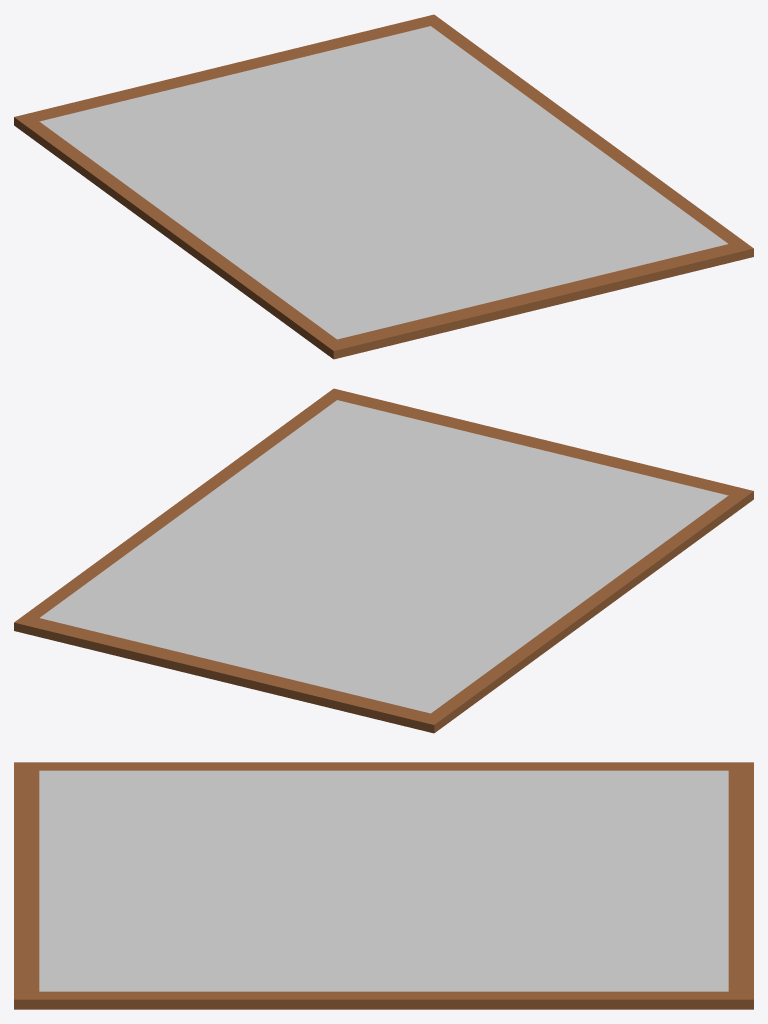
File: reposado.fbx
The picture shows the model from 3 angles, top to bottom: view 1: azimuth 30°, elevation 25°; view 2: azimuth 150°, elevation 25°; view 3: azimuth 270°, elevation 25°; orthographic projection. The views are drawn at different scales.
Visible parts, largest first — view 1: Plane; view 2: Plane; view 3: Plane.
Boxes of the visible parts, bbox=[...] form: Plane: bbox=[14, 14, 753, 359]; Plane: bbox=[14, 388, 753, 733]; Plane: bbox=[14, 762, 753, 1009].
Bounding box in the file's own units: 965 × 18.52 × 1272.
